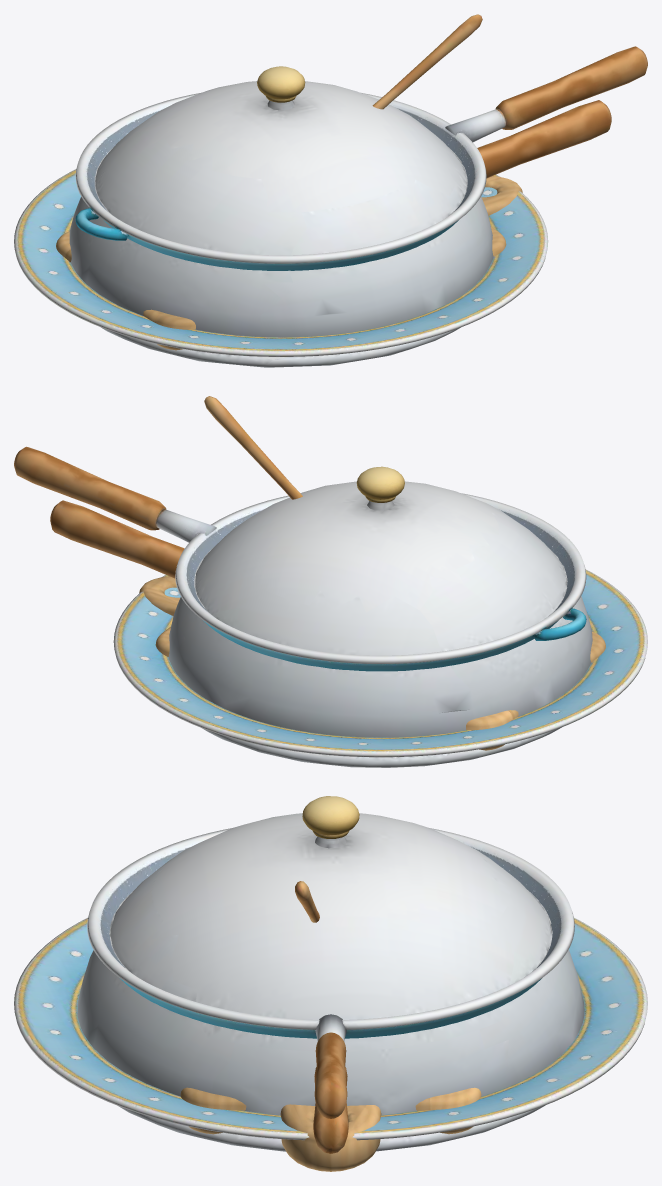
The model's file is tableware.glb.
3 views of the same model, one above another, from view 1: azimuth 30°, elevation 25°; view 2: azimuth 150°, elevation 25°; view 3: azimuth 270°, elevation 25° (orthographic). The views are drawn at different scales.
Visible parts, largest first — view 1: cloche, plate, wok, pan_coral, board, starch, cloche_knob, pan_teal; view 2: cloche, plate, wok, pan_coral, board, starch, cloche_knob, pan_teal; view 3: cloche, plate, wok, board, cloche_knob, pan_coral.
Boxes of the visible parts, <box> form: cloche: <box>69,81,493,367</box>; plate: <box>14,169,548,356</box>; wok: <box>75,46,647,270</box>; pan_coral: <box>477,100,611,178</box>; board: <box>56,176,522,350</box>; starch: <box>372,14,482,109</box>; cloche_knob: <box>257,66,305,102</box>; pan_teal: <box>483,107,611,173</box>; cloche: <box>168,481,592,767</box>; plate: <box>113,569,647,757</box>; wok: <box>14,446,586,671</box>; pan_coral: <box>50,500,184,574</box>; board: <box>139,576,605,750</box>; starch: <box>204,396,302,499</box>; cloche_knob: <box>356,466,404,502</box>; pan_teal: <box>50,504,176,578</box>; cloche: <box>77,813,584,1151</box>; plate: <box>14,918,647,1140</box>; wok: <box>87,828,574,1118</box>; board: <box>180,1087,481,1171</box>; cloche_knob: <box>302,796,359,838</box>; pan_coral: <box>313,1067,348,1153</box>.
Bounding box in the file's own units: 5.14 × 1.86 × 3.99.
Materials: 12 (12 with a texture image).
